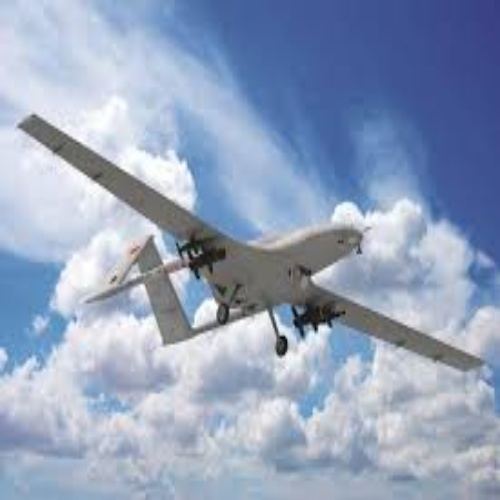uav139: (17, 113, 484, 377)
